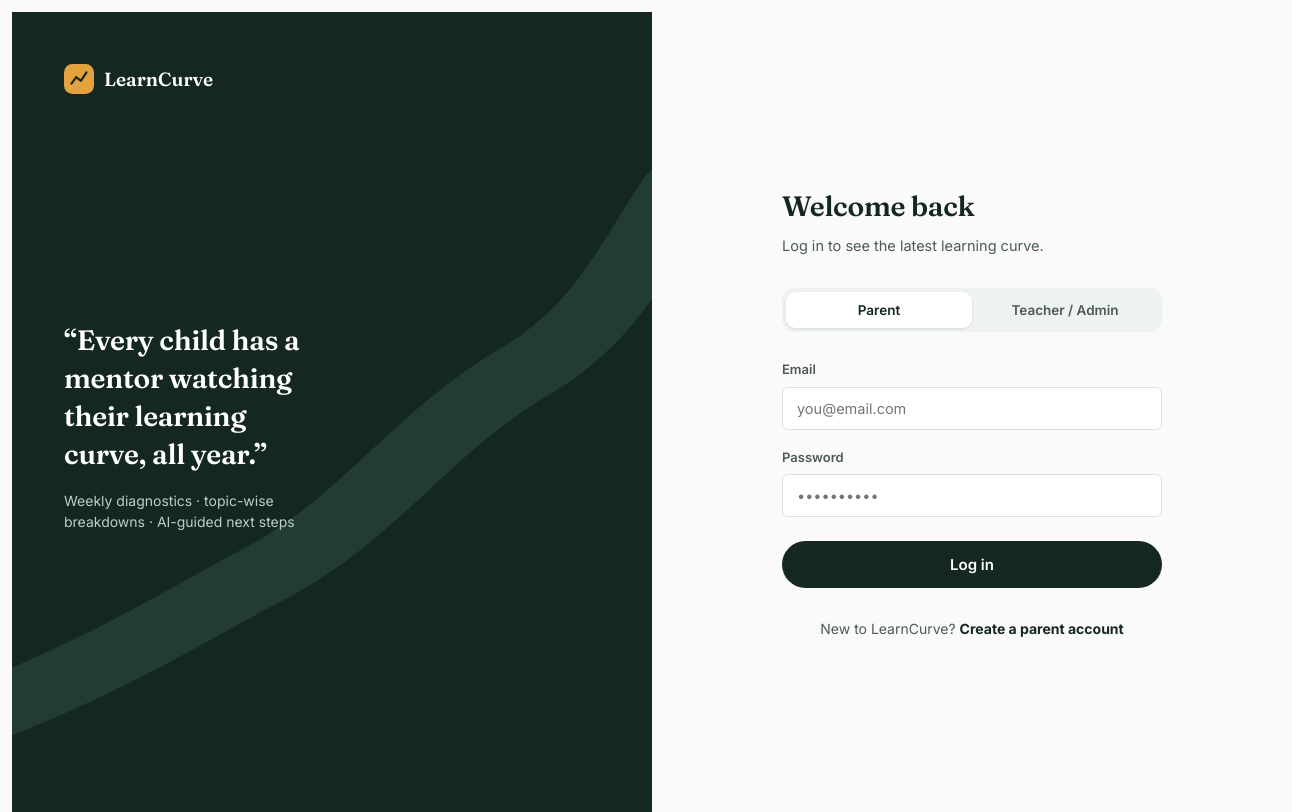
Test: auth flows › shows the server error for wrong credentials and stays on login
This screenshot has width=1292, height=812.
Type "priya@example.com" into the field labelled "Email".
click(972, 408); type("priya@example.com")  # box [782,387,1162,430]
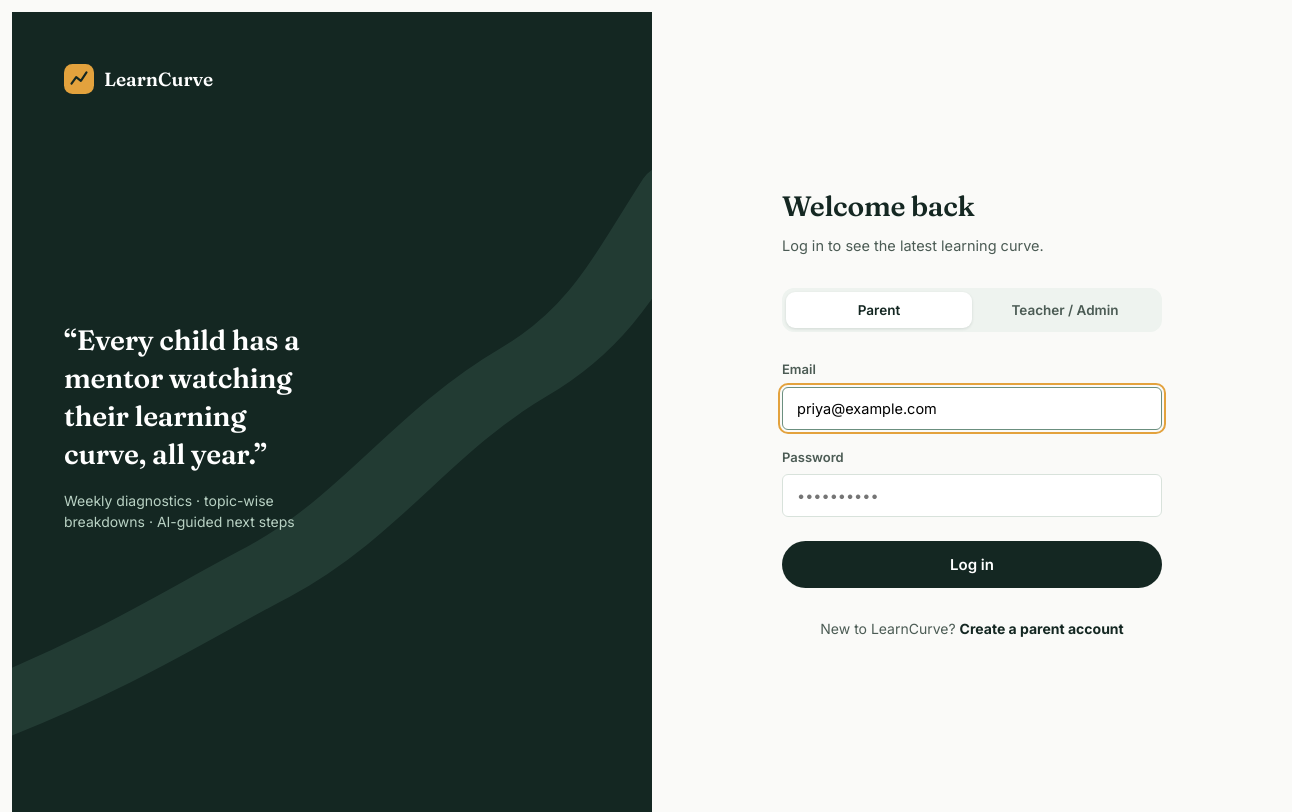
Type "wrong-password" into the password field labelled "Password".
click(972, 496); type("wrong-password")  # box [782,474,1162,517]
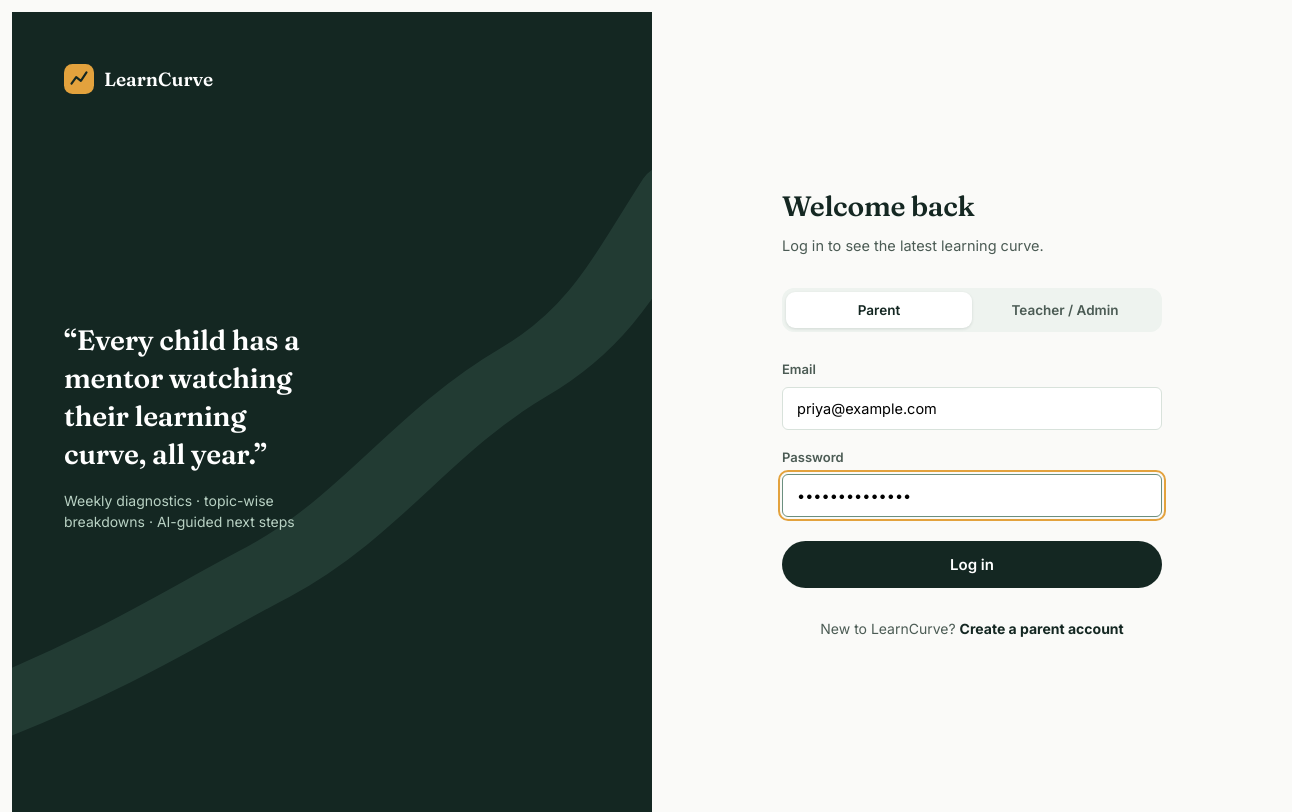
Click the button "Log in".
click(972, 565)  # box [782,541,1162,588]
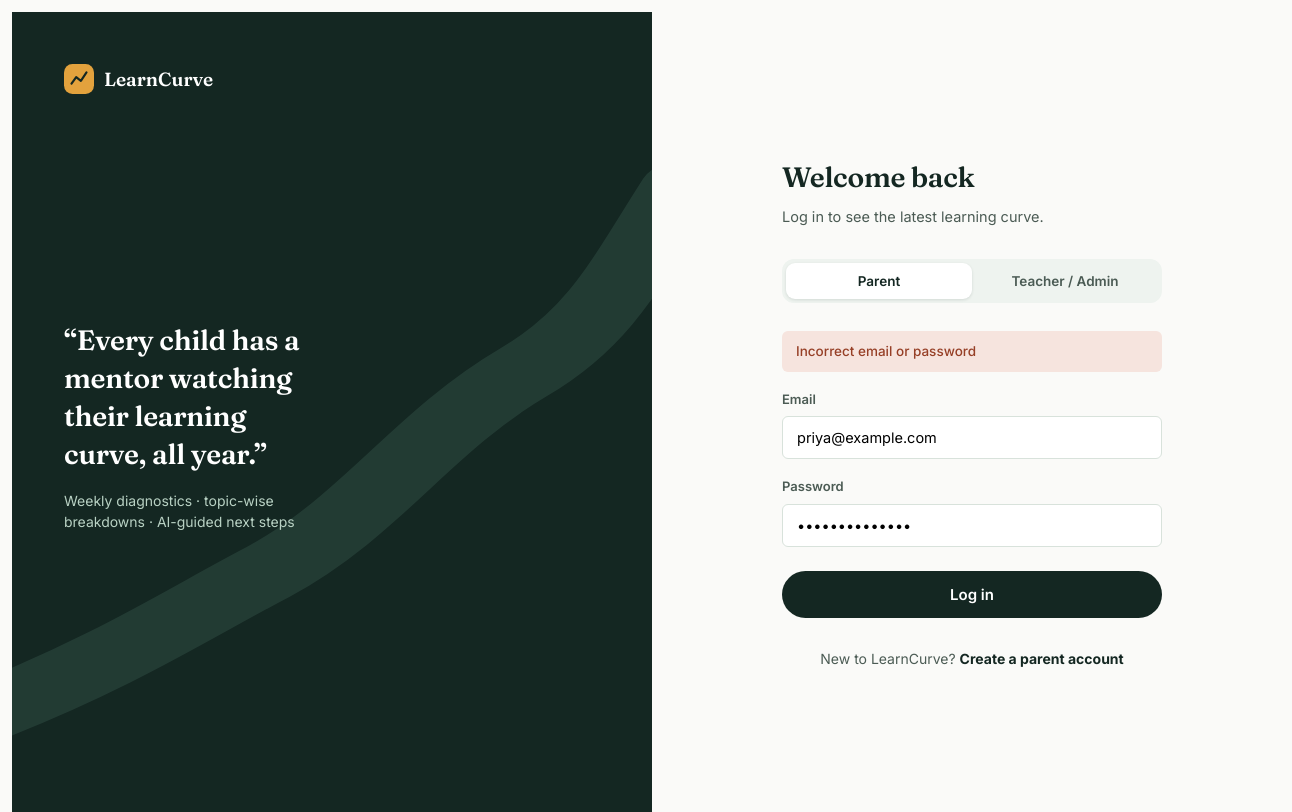
Expected: the button "Log in" is enabled, [782,570,1162,618]
Result: the message reads "Incorrect email or password" at [796,343,976,359]
